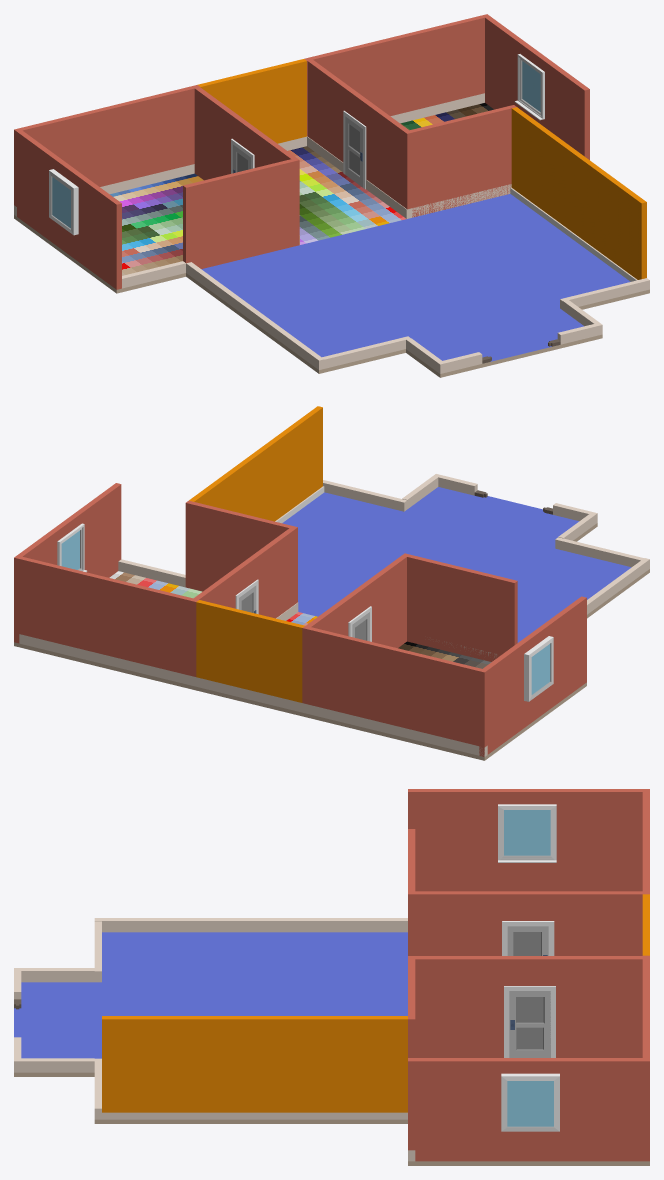
Rendered from HostelRooms.fbx.
The picture shows the model from 3 angles, top to bottom: view 1: azimuth 30°, elevation 25°; view 2: azimuth 150°, elevation 25°; view 3: azimuth 270°, elevation 25°; orthographic projection. The views are drawn at different scales.
Parts seen in each view (by area): view 1: FloorPiece.001, Wall.001, Wall.009, Wall.010, Wall.008, Wall.011, RoomWall1, DoorWall.002, RoomWall1.001, Floor, Wall.004, Corridor (+16 smaller); view 2: FloorPiece.001, Wall.009, Wall.010, Wall.008, Wall.004, RoomWall1, Wall.001, Wall.011, RoomWall1.001, DoorWall.002, DoorWall.001, Floor (+13 smaller); view 3: FloorPiece.001, Wall.001, RoomWall1.001, RoomWall1, DoorWall.002, DoorWall.001, Wall.007, Door, Glass, Glass.001, WindowFrame, WindowFrame.001 (+7 smaller).
Part boxes in pixels (box(x1,y1,x2,y2)): FloorPiece.001: box(186, 194, 649, 377); Wall.001: box(510, 107, 646, 281); Wall.009: box(304, 15, 484, 136); Wall.010: box(19, 85, 199, 186); Wall.008: box(183, 159, 295, 268); Wall.011: box(409, 105, 516, 217); RoomWall1: box(14, 128, 121, 289); DoorWall.002: box(307, 59, 411, 209); RoomWall1.001: box(482, 14, 589, 159); Floor: box(14, 173, 203, 293); Wall.004: box(197, 59, 306, 150); Corridor: box(288, 146, 406, 244); FloorPiece.001: box(282, 476, 649, 642); Wall.009: box(19, 556, 198, 676); Wall.010: box(302, 626, 481, 745); Wall.008: box(407, 554, 517, 661); Wall.004: box(196, 600, 304, 712); RoomWall1: box(479, 596, 586, 756); Wall.001: box(189, 406, 324, 523); Wall.011: box(185, 500, 293, 591); RoomWall1.001: box(14, 483, 121, 643); DoorWall.002: box(194, 526, 297, 618); DoorWall.001: box(306, 553, 408, 648); Floor: box(307, 641, 586, 760); FloorPiece.001: box(14, 932, 407, 1123); Wall.001: box(102, 1016, 407, 1119); RoomWall1.001: box(408, 1058, 649, 1161); RoomWall1: box(408, 789, 649, 891); DoorWall.002: box(408, 956, 642, 1057); DoorWall.001: box(408, 891, 642, 955); Wall.007: box(94, 918, 407, 932); Door: box(509, 991, 550, 1057); Glass: box(504, 810, 550, 855); Glass.001: box(507, 1081, 553, 1126); WindowFrame: box(498, 804, 556, 862); WindowFrame.001: box(501, 1073, 559, 1131).
Size of the model in its own units: 1087 by 191 by 1051.
